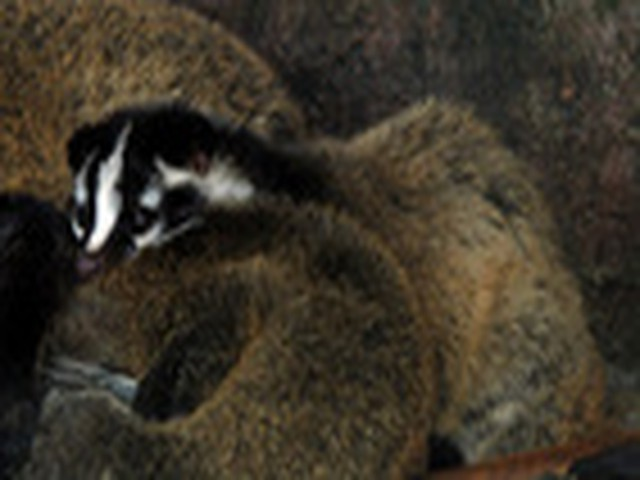civet: (60, 97, 342, 266)
